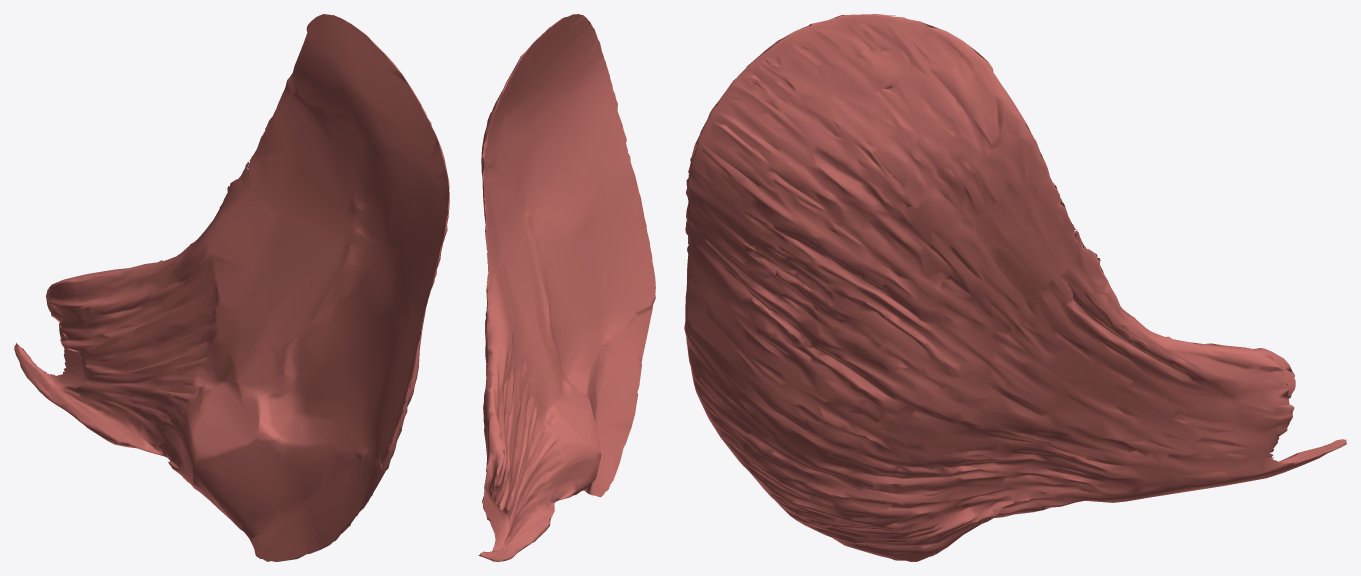
3 views of the same model, side by side, from view 1: azimuth 30°, elevation 25°; view 2: azimuth 150°, elevation 25°; view 3: azimuth 270°, elevation 25° (orthographic). The views are drawn at different scales.
Parts seen in each view (by area): view 1: 左侧颞肌; view 2: 左侧颞肌; view 3: 左侧颞肌.
Boxes of the visible parts, x1,y1,x2,y2 form: 左侧颞肌: (14,14,449,561); 左侧颞肌: (478,14,655,561); 左侧颞肌: (684,14,1346,561).
Size of the model in its own units: 0.0576 by 0.1678 by 0.1709.
